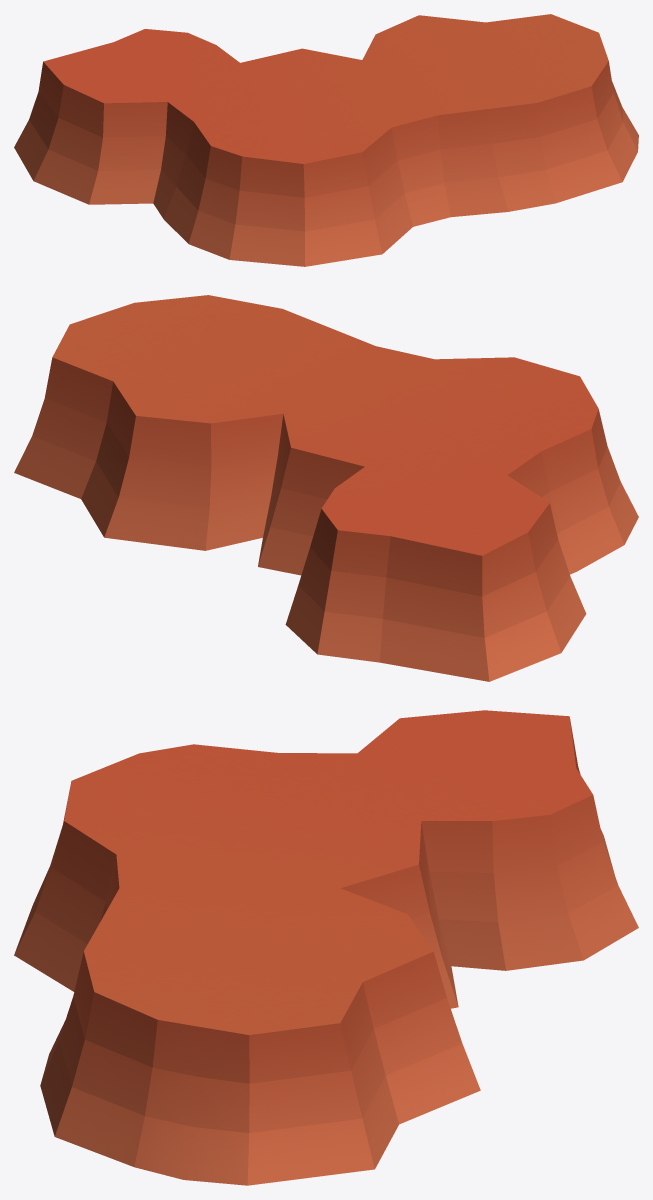
The model's file is Red_cliff2.fbx.
The picture shows the model from 3 angles, top to bottom: view 1: azimuth 30°, elevation 25°; view 2: azimuth 150°, elevation 25°; view 3: azimuth 270°, elevation 25°; orthographic projection. The views are drawn at different scales.
Visible parts, largest first — view 1: cliff2; view 2: cliff2; view 3: cliff2.
Part boxes in pixels (left/top/right/bottom): cliff2: left=14, top=14, right=638, bottom=266; cliff2: left=14, top=295, right=638, bottom=681; cliff2: left=14, top=710, right=638, bottom=1185.
Size of the model in its own units: 9.4 by 1.61 by 6.83.
